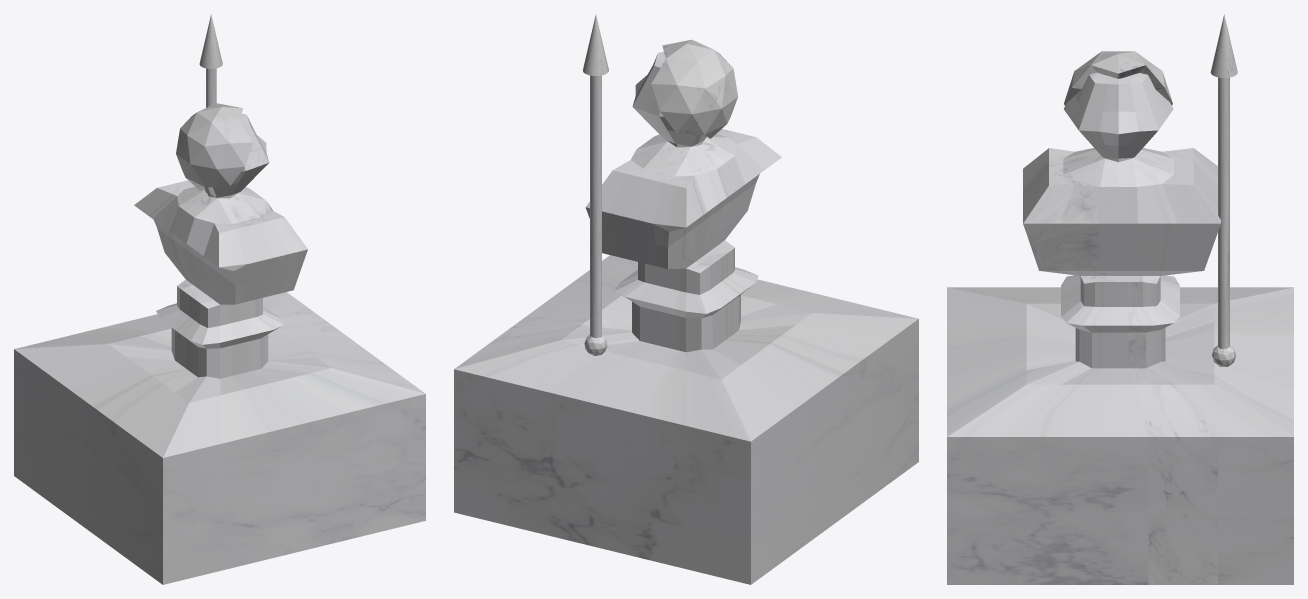
The model's file is Knight.fbx.
The picture shows the model from 3 angles, left to right: view 1: azimuth 30°, elevation 25°; view 2: azimuth 150°, elevation 25°; view 3: azimuth 270°, elevation 25°; orthographic projection. The views are drawn at different scales.
Visible parts, largest first — view 1: Cylinder; view 2: Cylinder; view 3: Cylinder.
Boxes of the visible parts, x1,y1,x2,y2 form: Cylinder: (14,14,425,584); Cylinder: (454,14,918,584); Cylinder: (947,14,1293,584).
Size of the model in its own units: 86.57 by 139 by 84.85.
